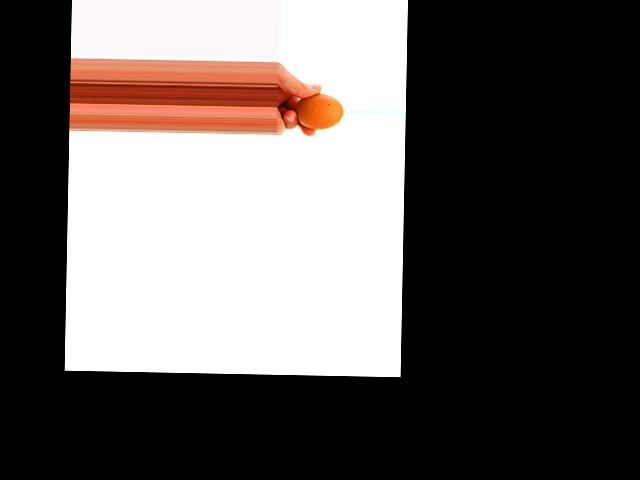egg: (295, 93, 343, 130)
